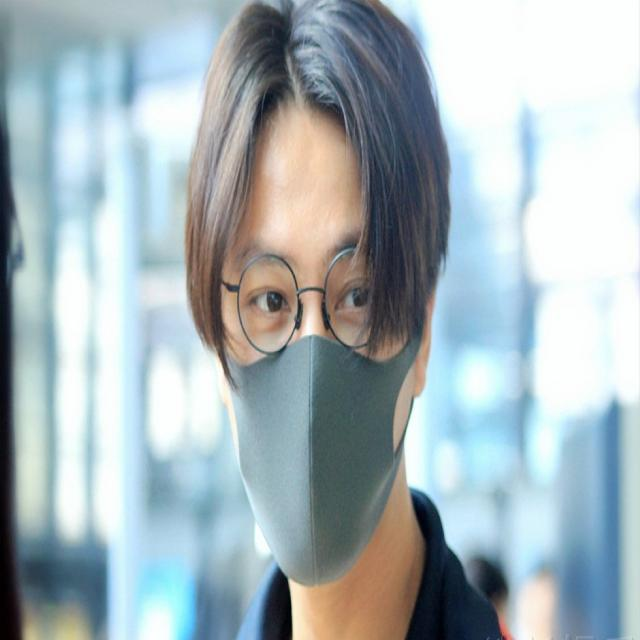mask: (229, 133, 408, 588)
